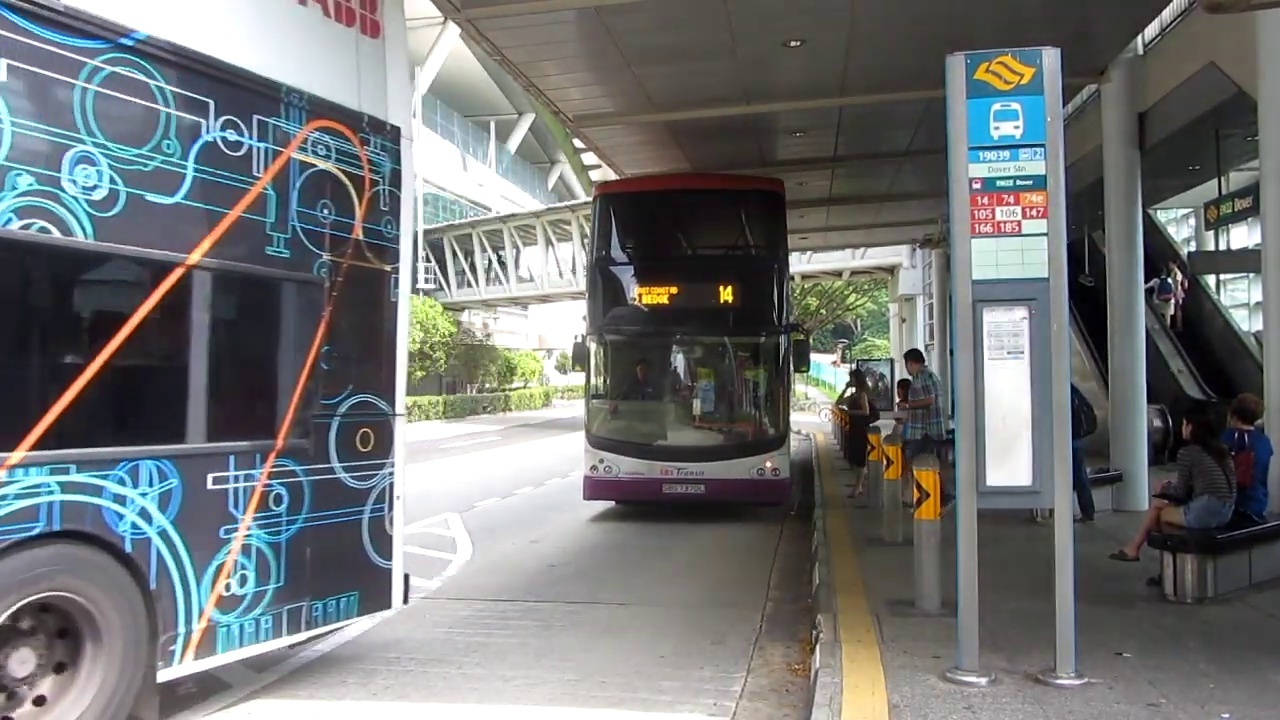bus panel: (626, 281, 744, 310)
